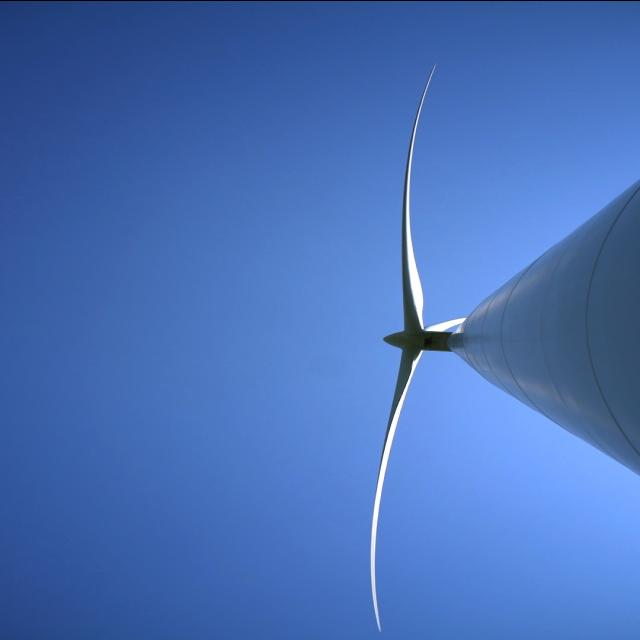blade 1: (387, 43, 455, 310)
blade 2: (432, 314, 460, 330)
blade 3: (344, 374, 416, 624)
